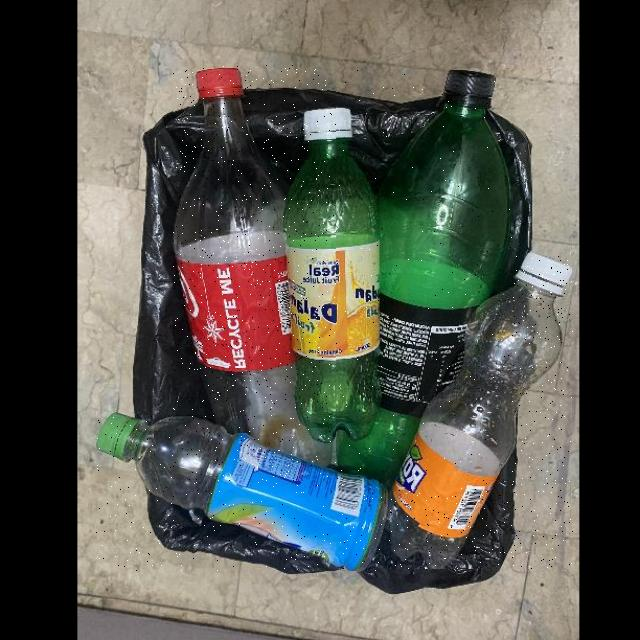plastic: (337, 70, 512, 488), (174, 65, 327, 468), (389, 251, 573, 568), (96, 412, 387, 571), (283, 105, 381, 442)
